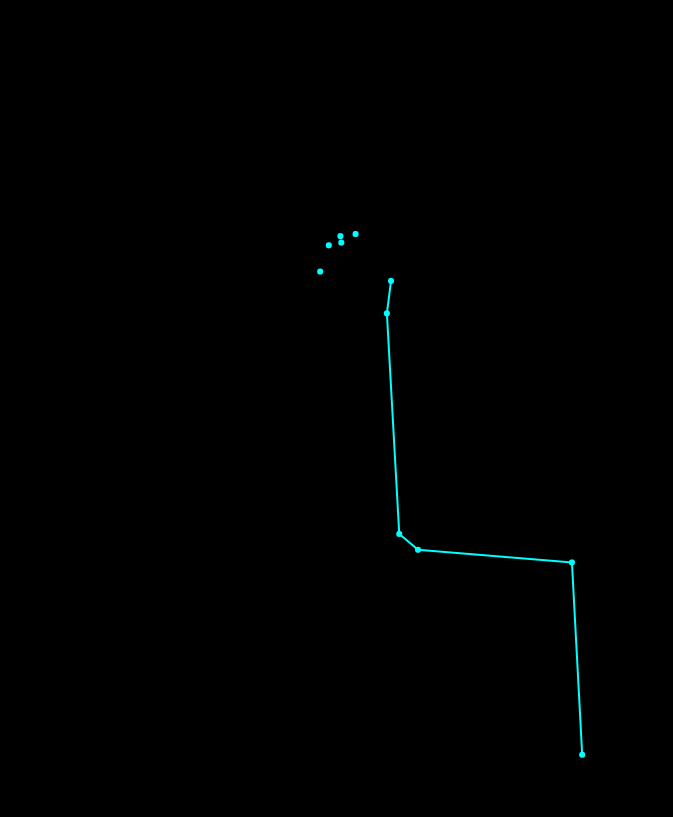warrior_1: (269, 218, 590, 768)
